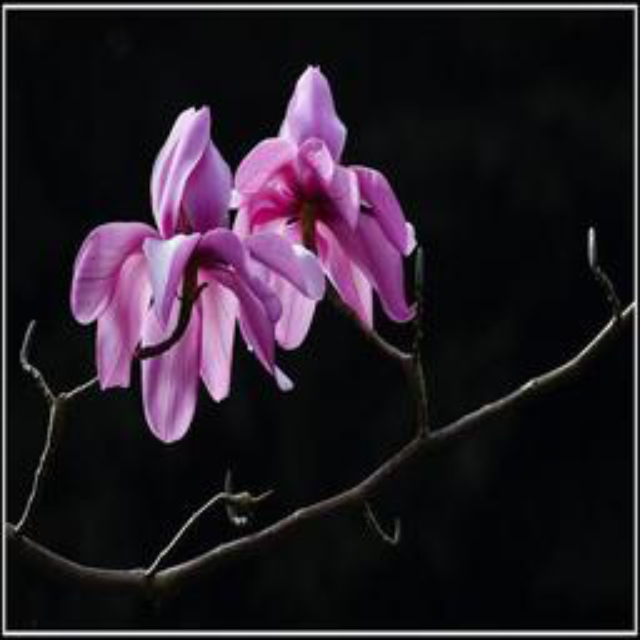magnolia: (58, 98, 294, 455), (229, 59, 420, 341)
